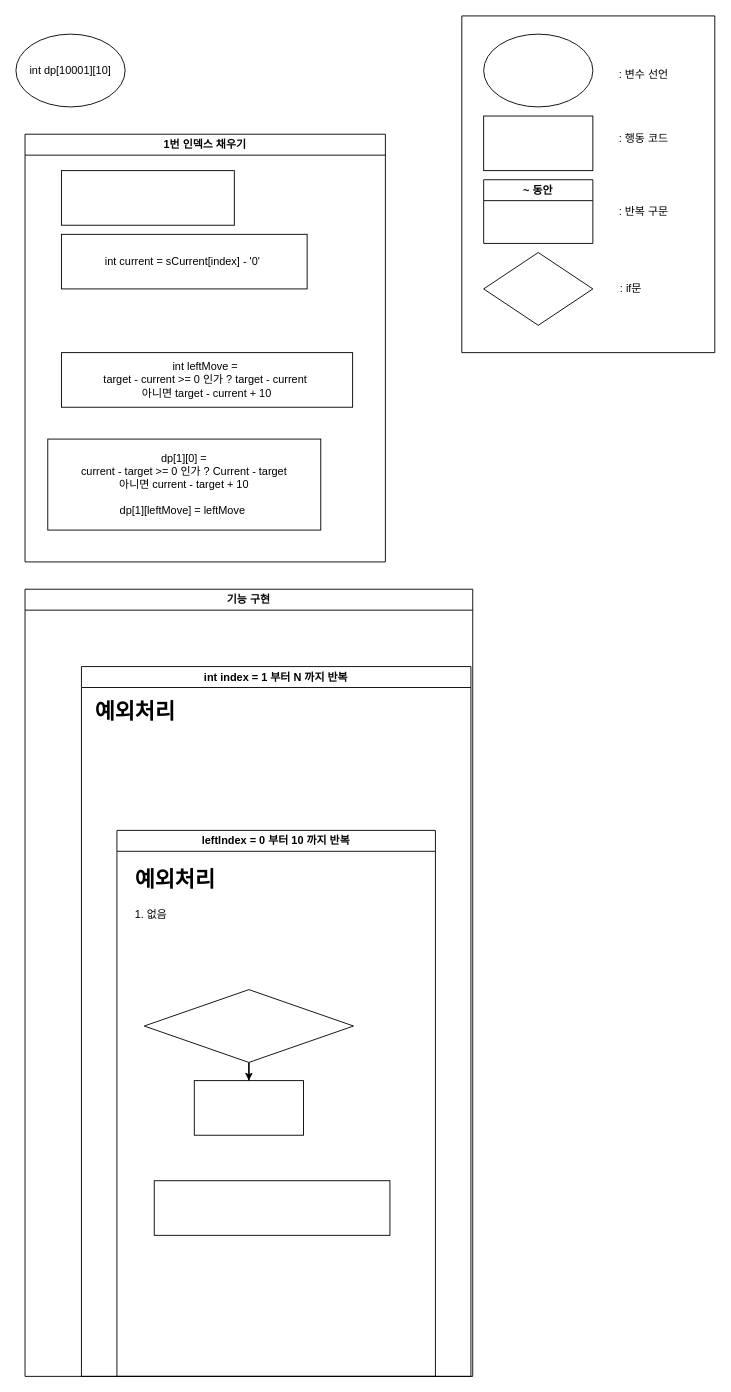
Image size: 731x1392. Some labels were removed from this diagram. Each missing label, with the centre of its shape:
continue;: (x=248, y=1107)
current = sCurrent[index]: (x=271, y=1207)
dp[index][leftIndex] 값이 존재하지 않는가?: (x=248, y=1025)
int target = sTarget[index] - '0': (x=147, y=197)
